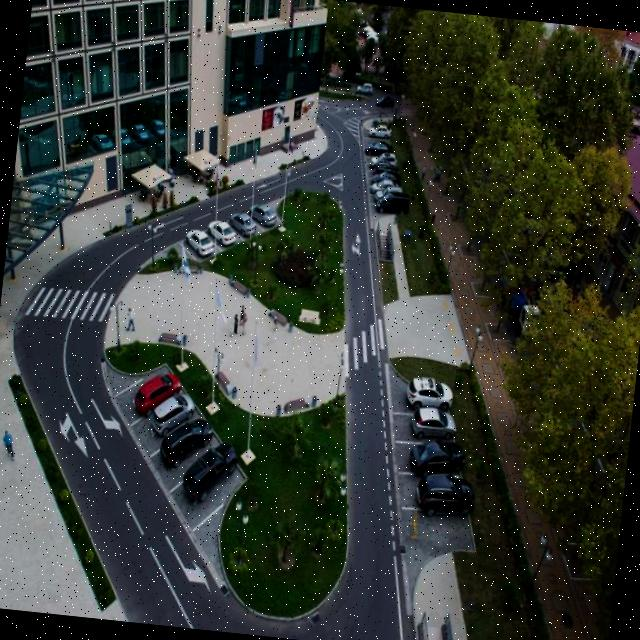empty: (358, 130, 394, 150)
occupied: (176, 444, 242, 530), (156, 412, 216, 490), (135, 386, 196, 458), (401, 507, 472, 562), (115, 365, 172, 430), (399, 468, 474, 516), (396, 408, 456, 446), (401, 439, 465, 473), (393, 379, 450, 416), (196, 217, 242, 256), (178, 224, 218, 266), (247, 194, 283, 234), (224, 206, 260, 244), (370, 193, 410, 224), (359, 156, 404, 179), (358, 149, 402, 170), (367, 180, 403, 205), (364, 175, 402, 198), (364, 169, 406, 189), (360, 140, 393, 164), (365, 122, 392, 138)
